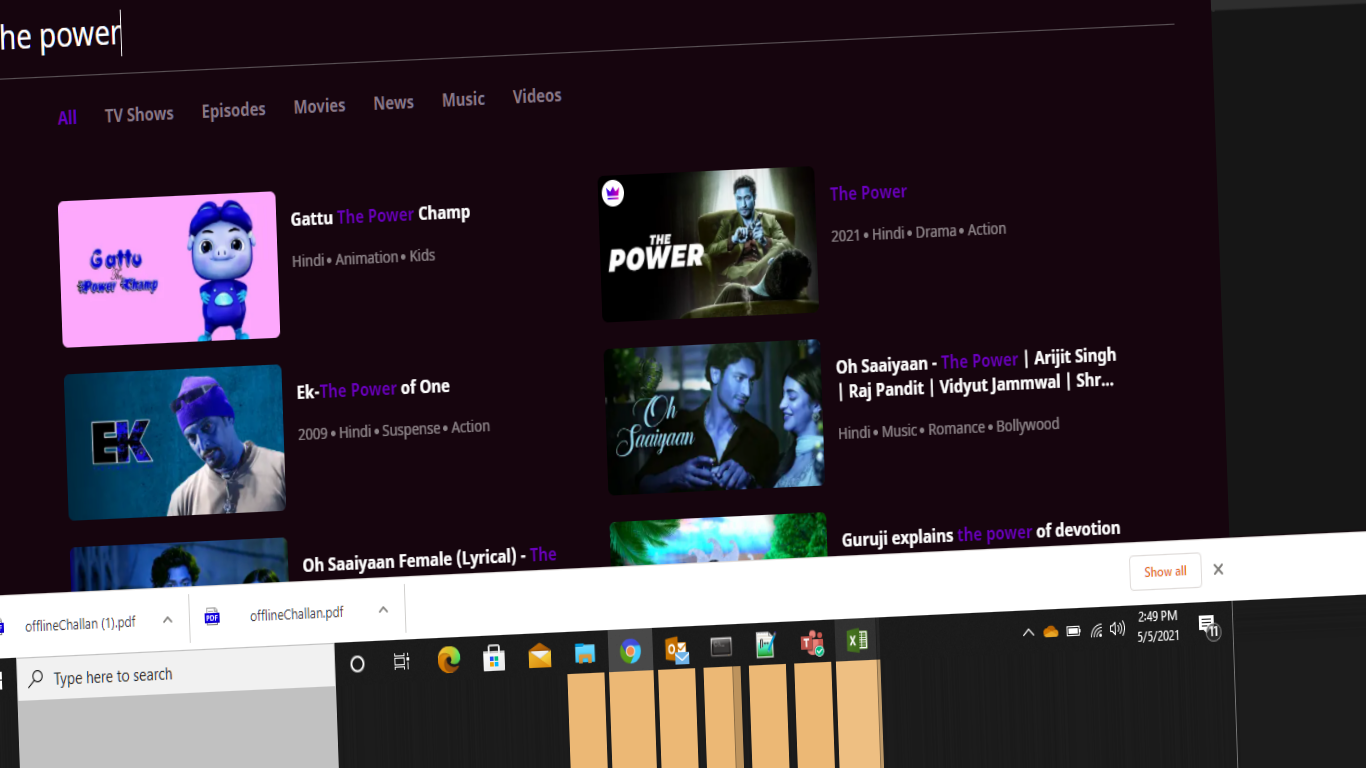searchtextbox: (1, 1, 1175, 83)
